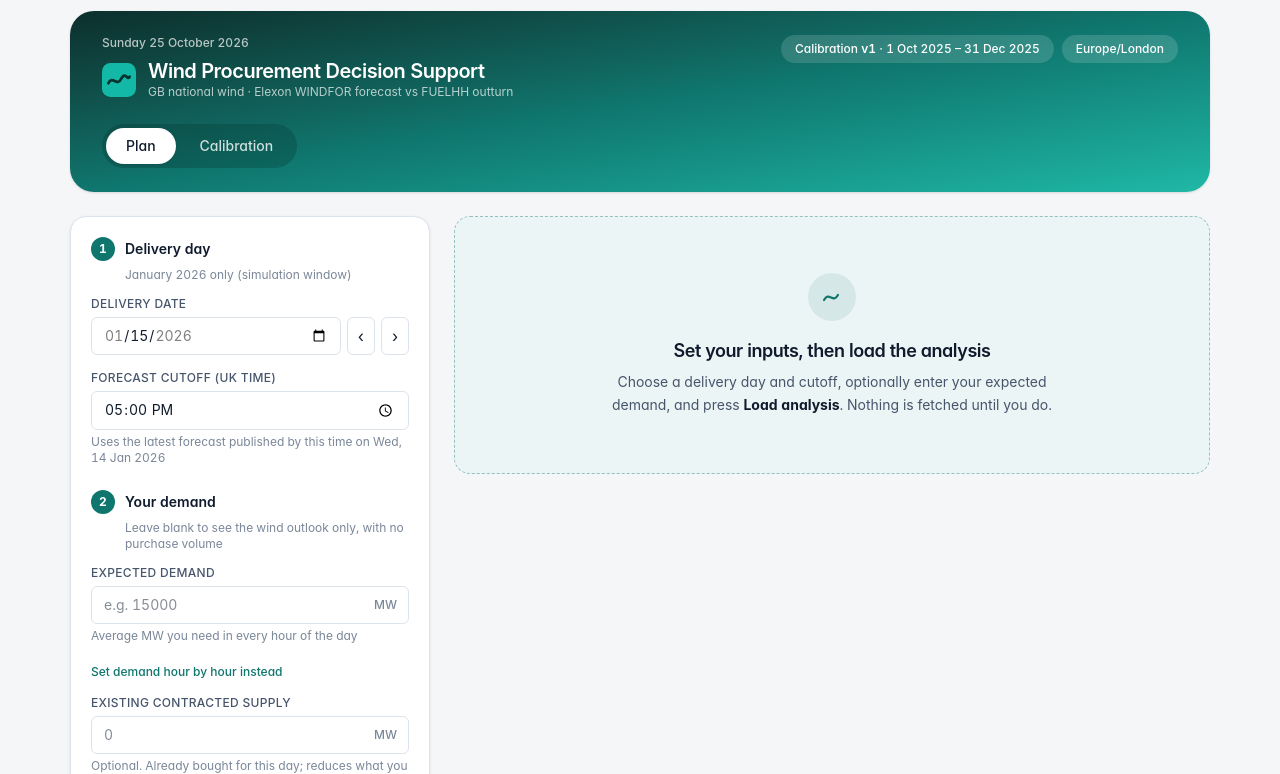
Test case: Purchase plan › steps to the next day with the arrow button once an analysis is loaded
Step 1. Type "15000" into the field labelled "Expected demand" → (250, 605), box [91,586,409,624]
(page scrolled)
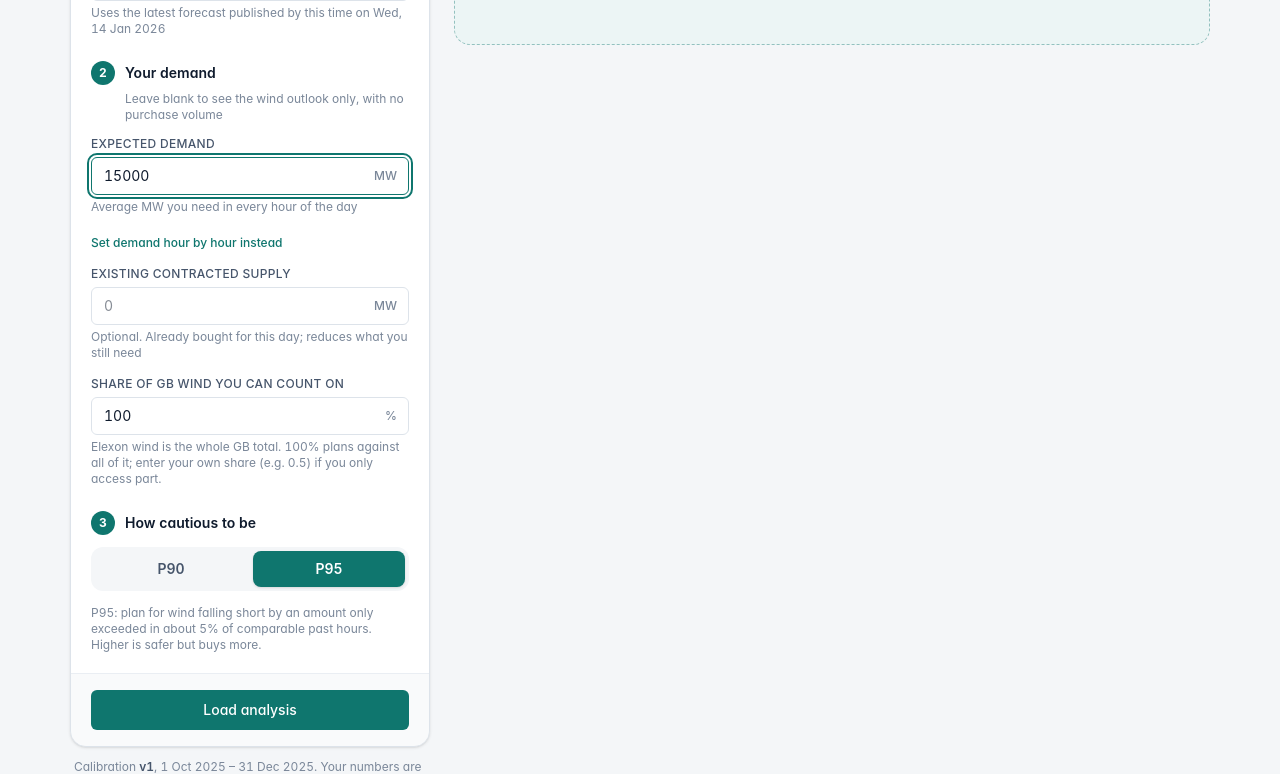
Step 2. Click the button "Load analysis" → (250, 710), box [91,690,409,730]
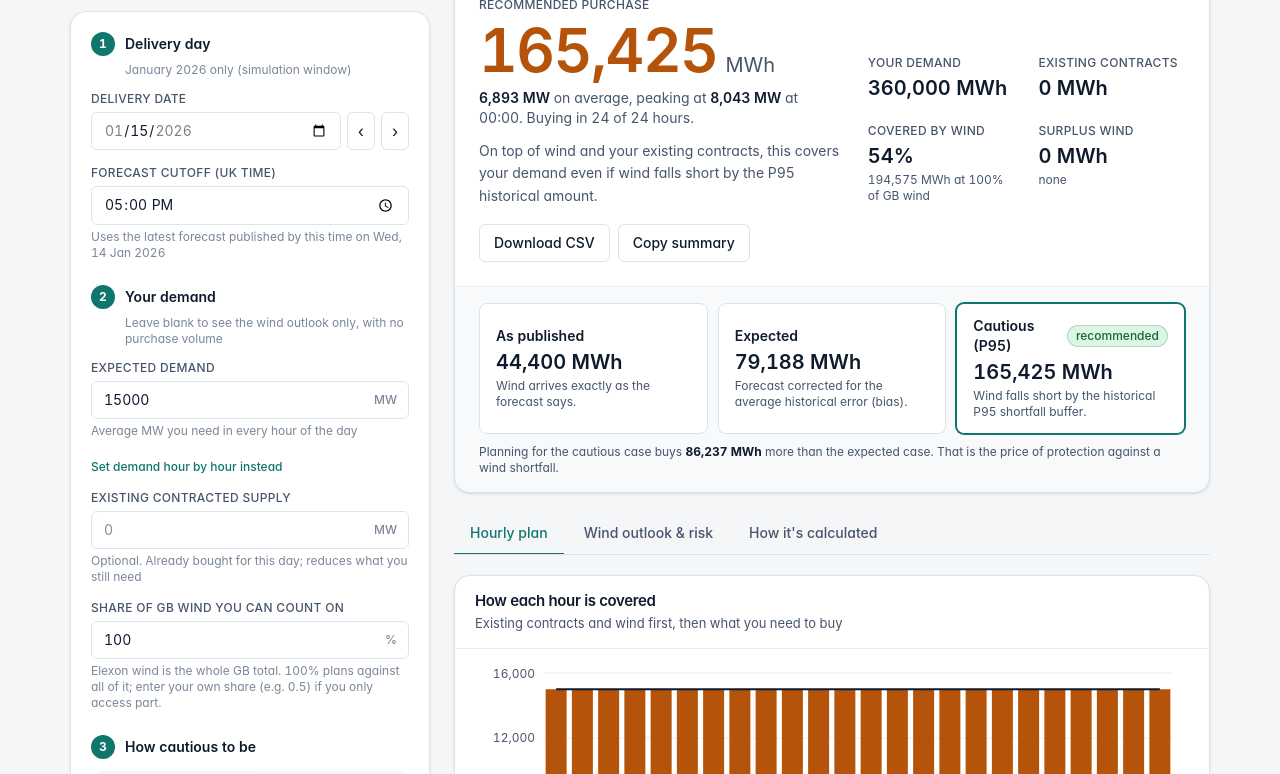
Now the text "165,425" is shown, box [479,20,718,80]
Step 3. Click the button named "Next day" → (395, 131), box [381,112,409,150]
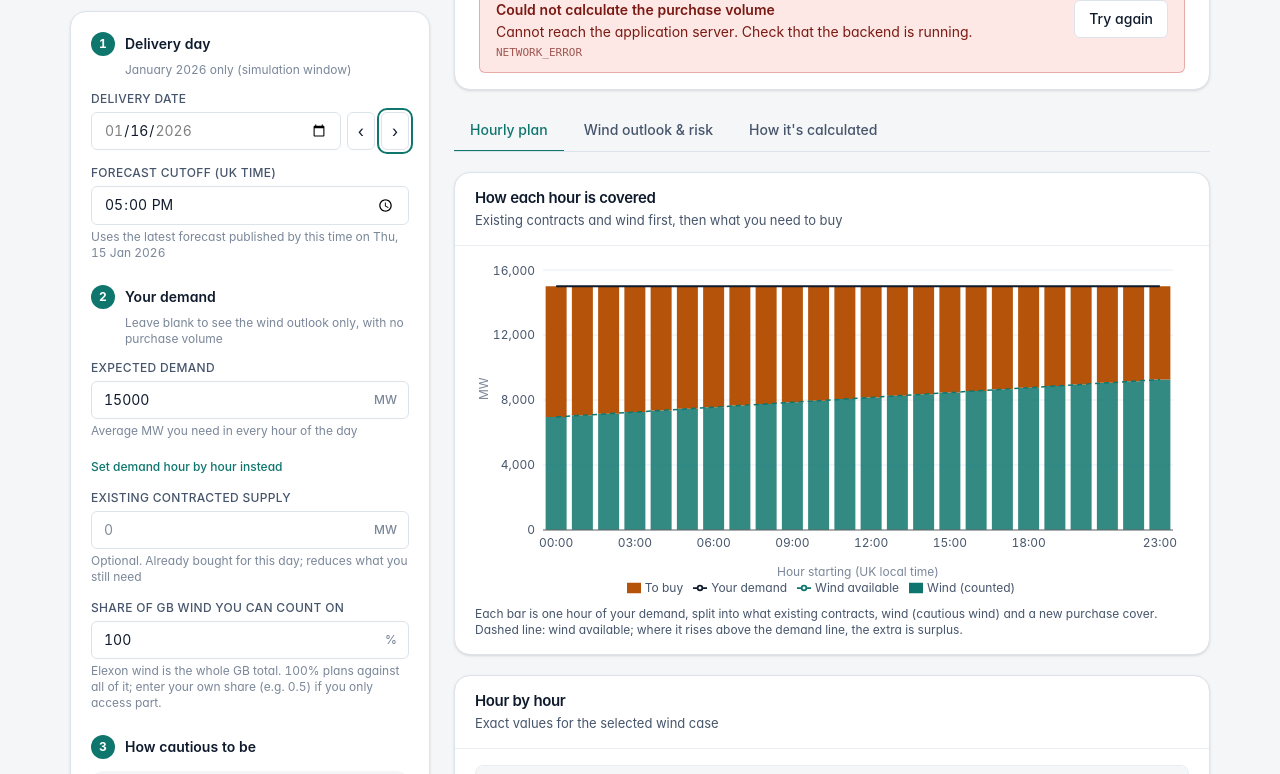
Now the date field labelled "Delivery date" holds "2026-01-16", box [91,112,341,150]
